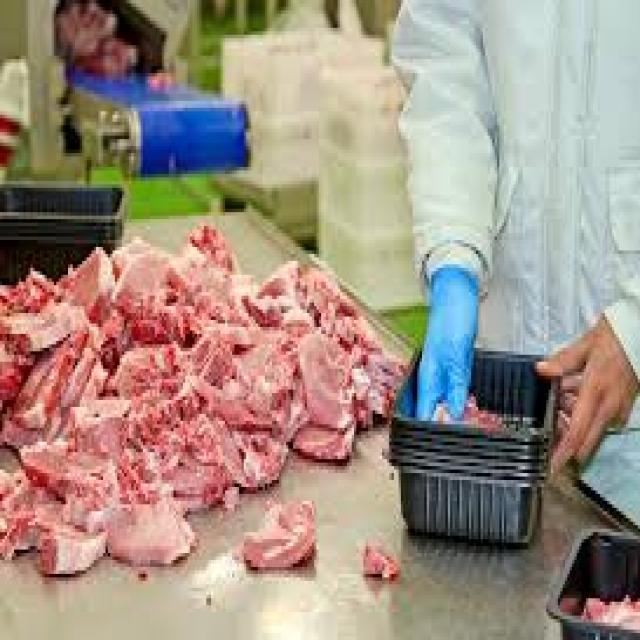Organik: (2, 253, 401, 616)
